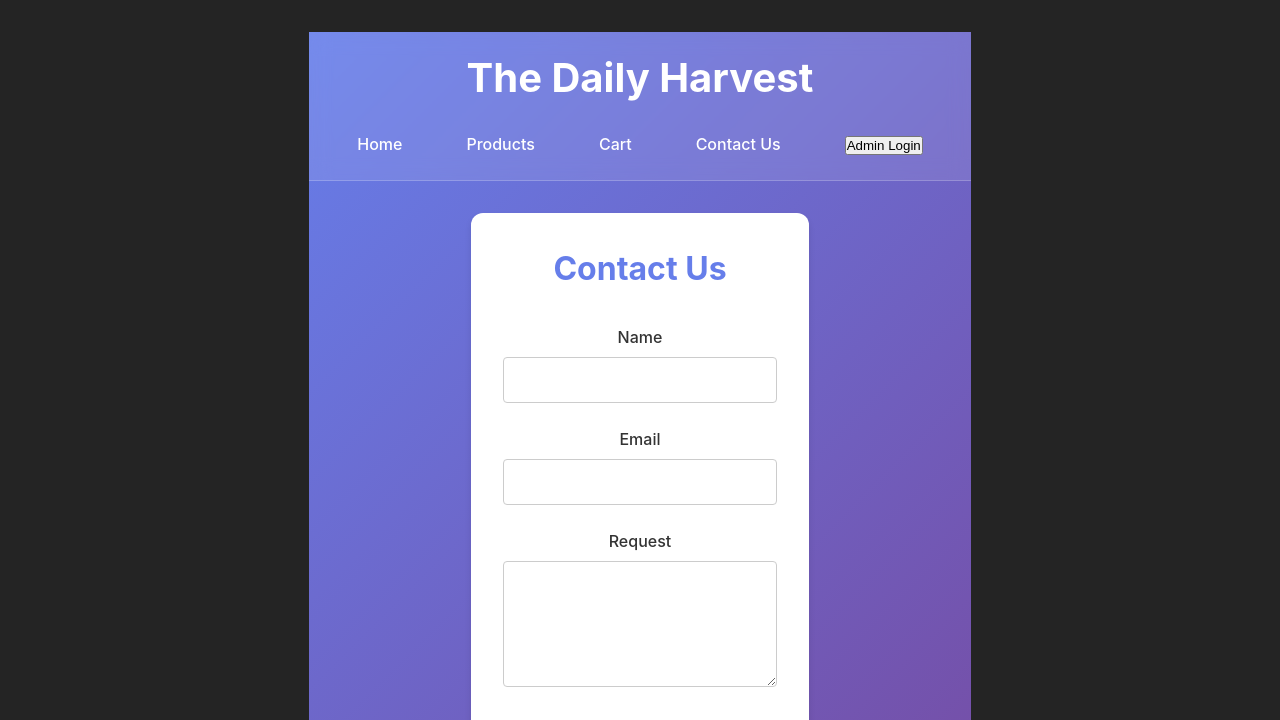
Test case: ContactPage › shows thank you modal when form is submitted
This screenshot has width=1280, height=720.
In the field labelled "Name": (640, 380) [503, 357, 777, 403], type "John Doe"
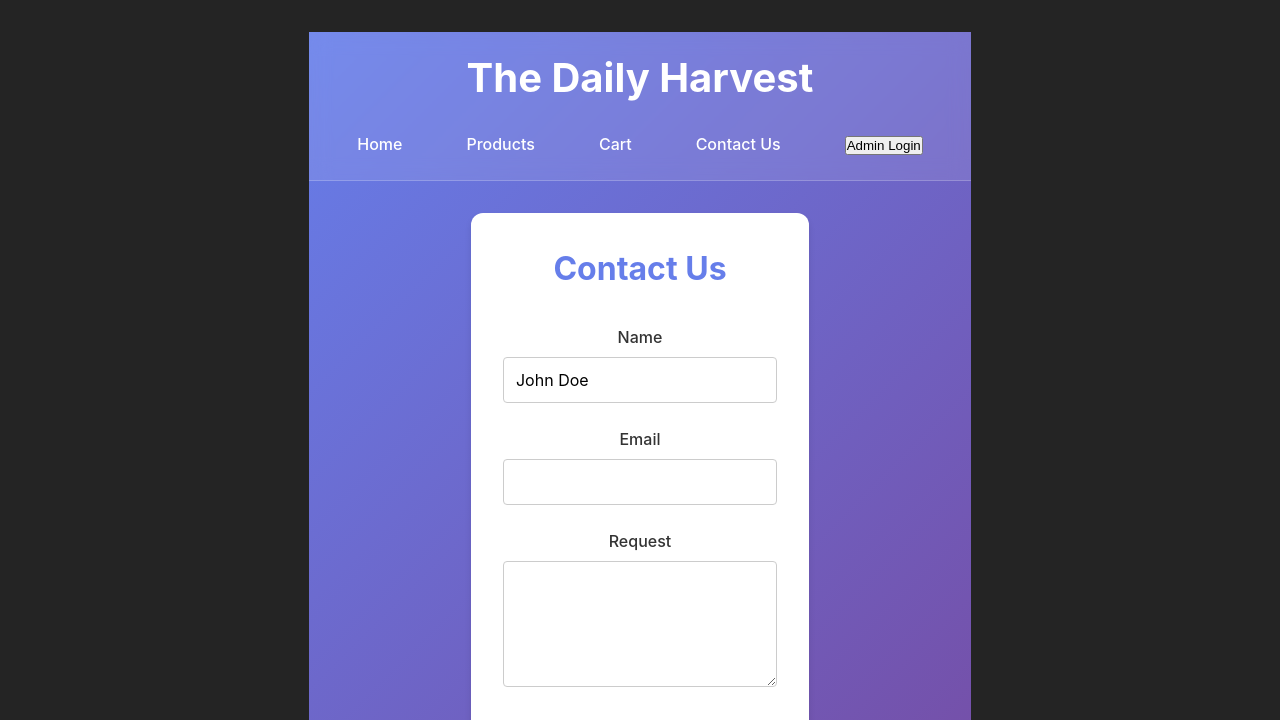
In the field labelled "Email": (640, 482) [503, 459, 777, 505], type "john@example.com"
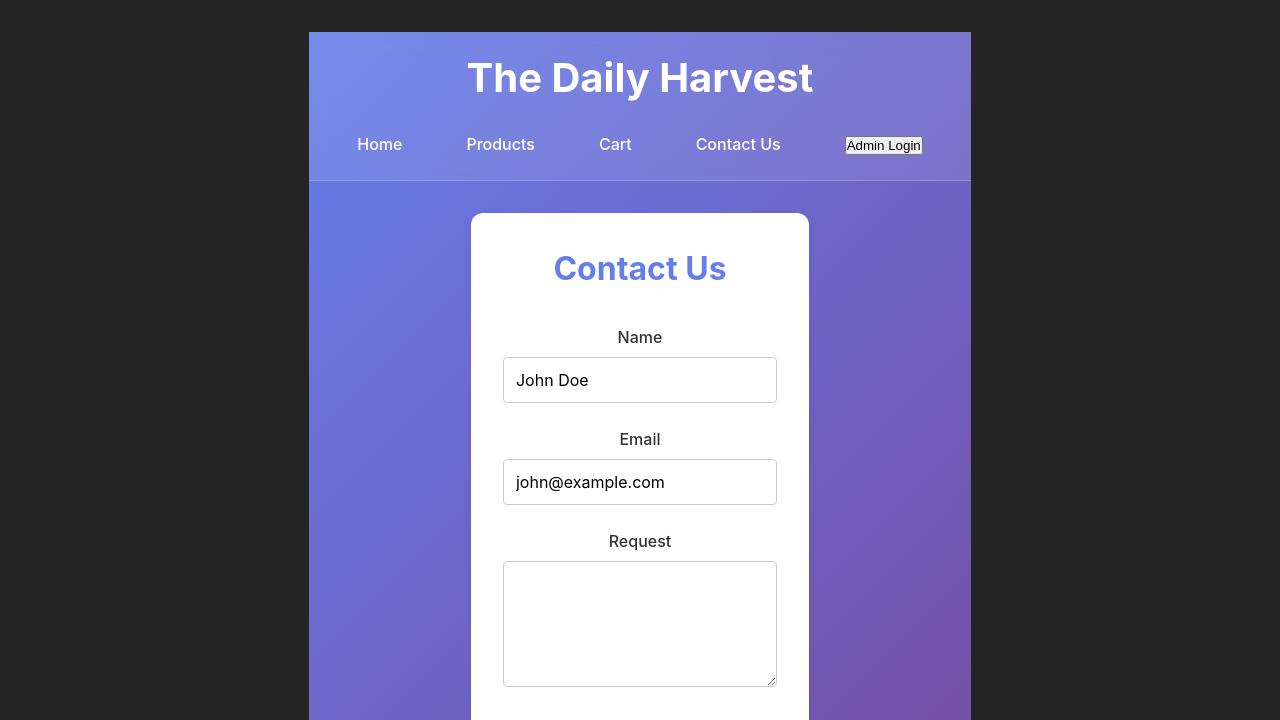
In the text box labelled "Request": (640, 624) [503, 561, 777, 687], type "I need help"
(page scrolled)
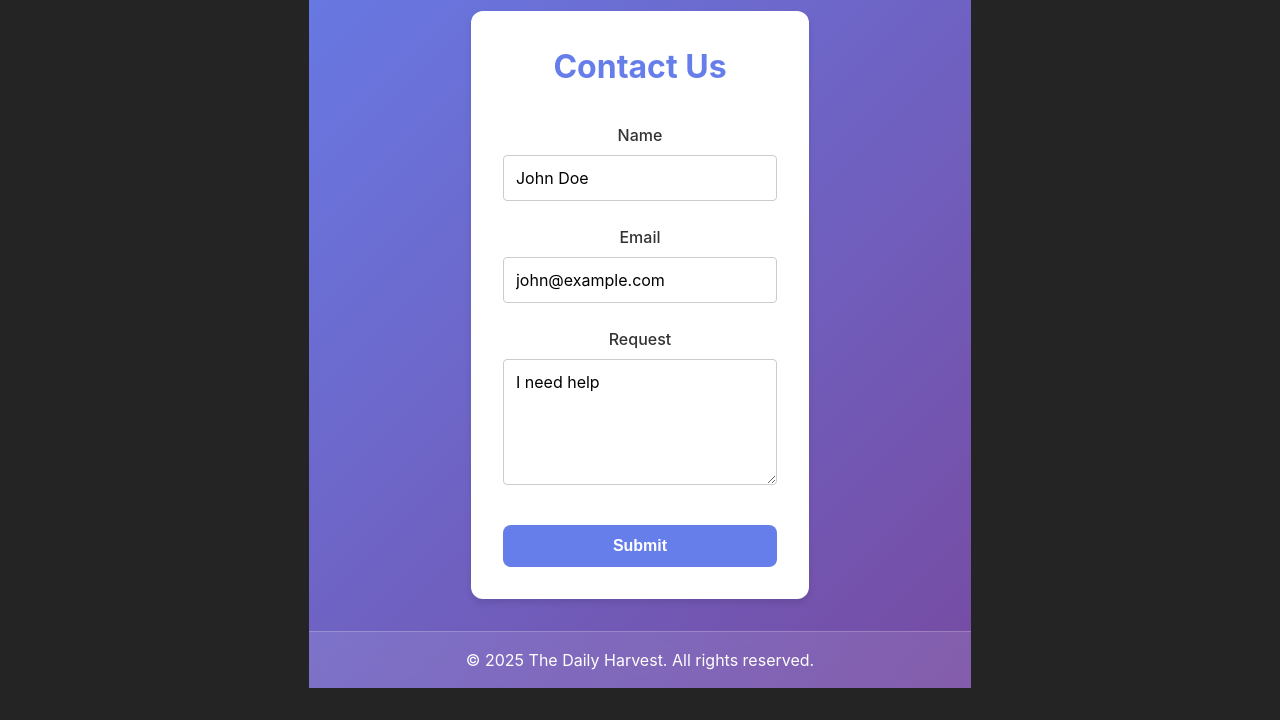
Click the button "Submit": click(640, 546) [503, 525, 777, 567]
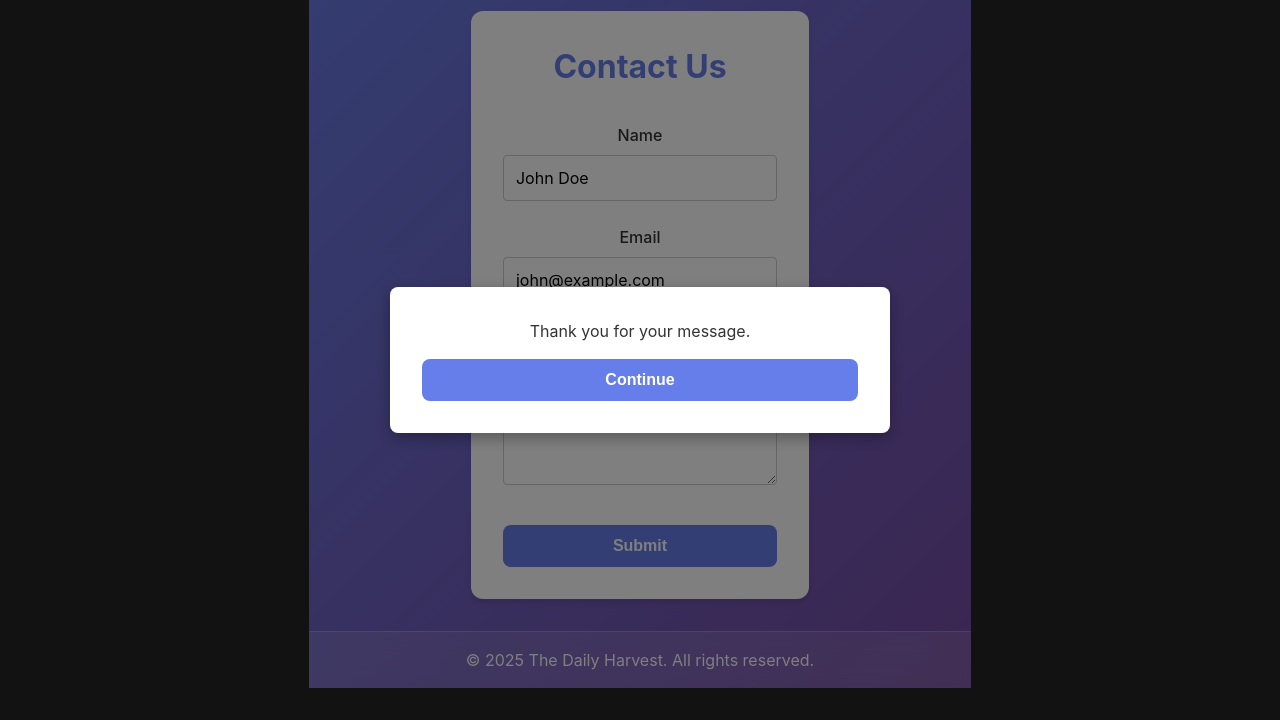
Check: the text "Thank you for your message." is shown, box [530, 321, 750, 341]
Check: the button "Continue" is shown, box [422, 359, 858, 401]
